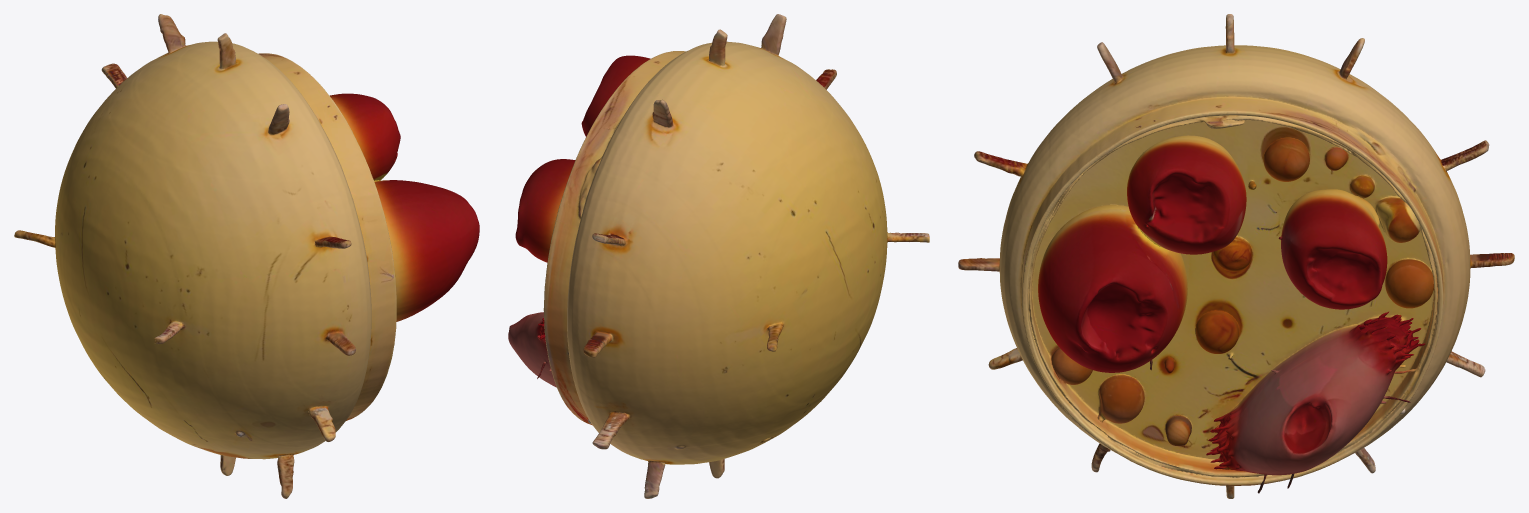
Rendered from cell-current-prompt.glb.
3 views of the same model, side by side, from view 1: azimuth 30°, elevation 25°; view 2: azimuth 150°, elevation 25°; view 3: azimuth 270°, elevation 25° (orthographic). The views are drawn at different scales.
Visible parts, largest first — view 1: tripo_node_9c334d67-973b-4ca5-b6a2-74bef6f89088; view 2: tripo_node_9c334d67-973b-4ca5-b6a2-74bef6f89088; view 3: tripo_node_9c334d67-973b-4ca5-b6a2-74bef6f89088.
Boxes of the visible parts, x1=… form: tripo_node_9c334d67-973b-4ca5-b6a2-74bef6f89088: x1=14, y1=14, x2=479, y2=498; tripo_node_9c334d67-973b-4ca5-b6a2-74bef6f89088: x1=508, y1=14, x2=929, y2=498; tripo_node_9c334d67-973b-4ca5-b6a2-74bef6f89088: x1=958, y1=14, x2=1514, y2=498.
Bounding box in the file's own units: 0.736 × 0.9584 × 1.
Materials: 1 (1 with a texture image).
